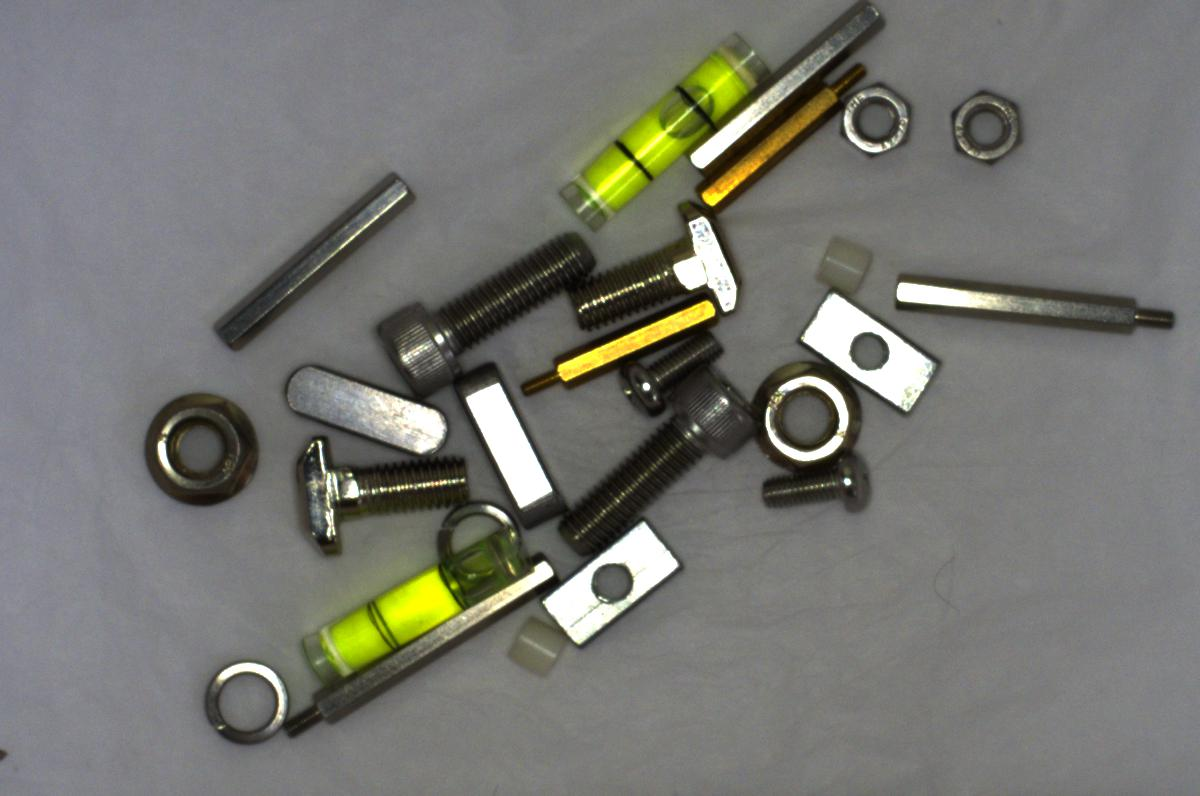Double hexagonal column: (205, 155, 425, 362), (675, 1, 898, 180)
Flange nut: (134, 378, 262, 510), (748, 356, 864, 481)
Hexagon nut: (941, 86, 1028, 165), (838, 80, 912, 165)
Hexagon pillar: (696, 62, 870, 209), (516, 290, 717, 400)
Hexagon screw: (383, 236, 603, 394), (560, 380, 761, 551)
Hexagonal steel column: (287, 550, 567, 741), (883, 268, 1185, 345)
Horizontal bubble: (555, 31, 780, 231), (301, 519, 528, 683)
Keybar: (267, 365, 451, 462), (466, 354, 561, 532)
Plastic cushion pillar: (802, 232, 879, 292), (505, 610, 570, 681)
Rectangular nut: (794, 283, 948, 418), (543, 518, 691, 655)
Round head screw: (608, 337, 733, 424), (753, 451, 874, 526)
Spring washer: (187, 654, 293, 753), (432, 499, 528, 590)
T-shaped screw: (280, 424, 471, 555), (561, 203, 743, 333)
